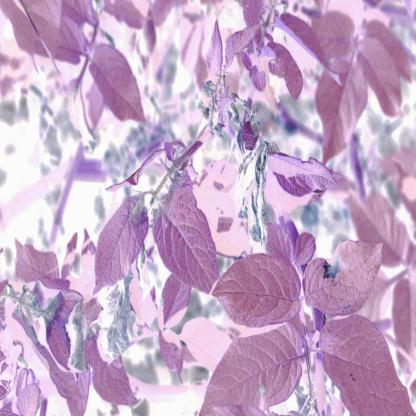Potato leaf: (7, 286, 150, 358), (92, 188, 152, 296), (234, 138, 276, 260)
